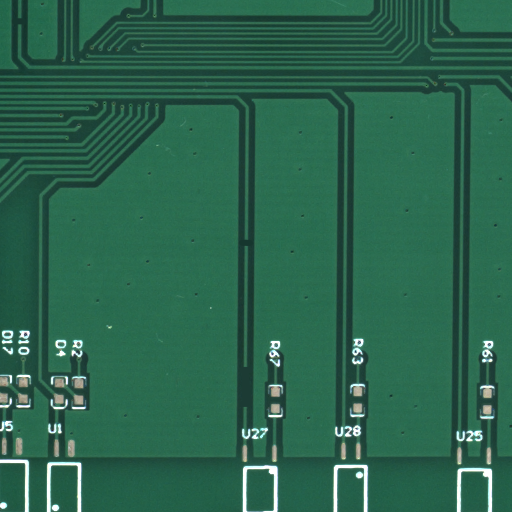Open_circuit: (245, 386, 256, 431), (19, 20, 32, 35), (245, 241, 257, 254)
